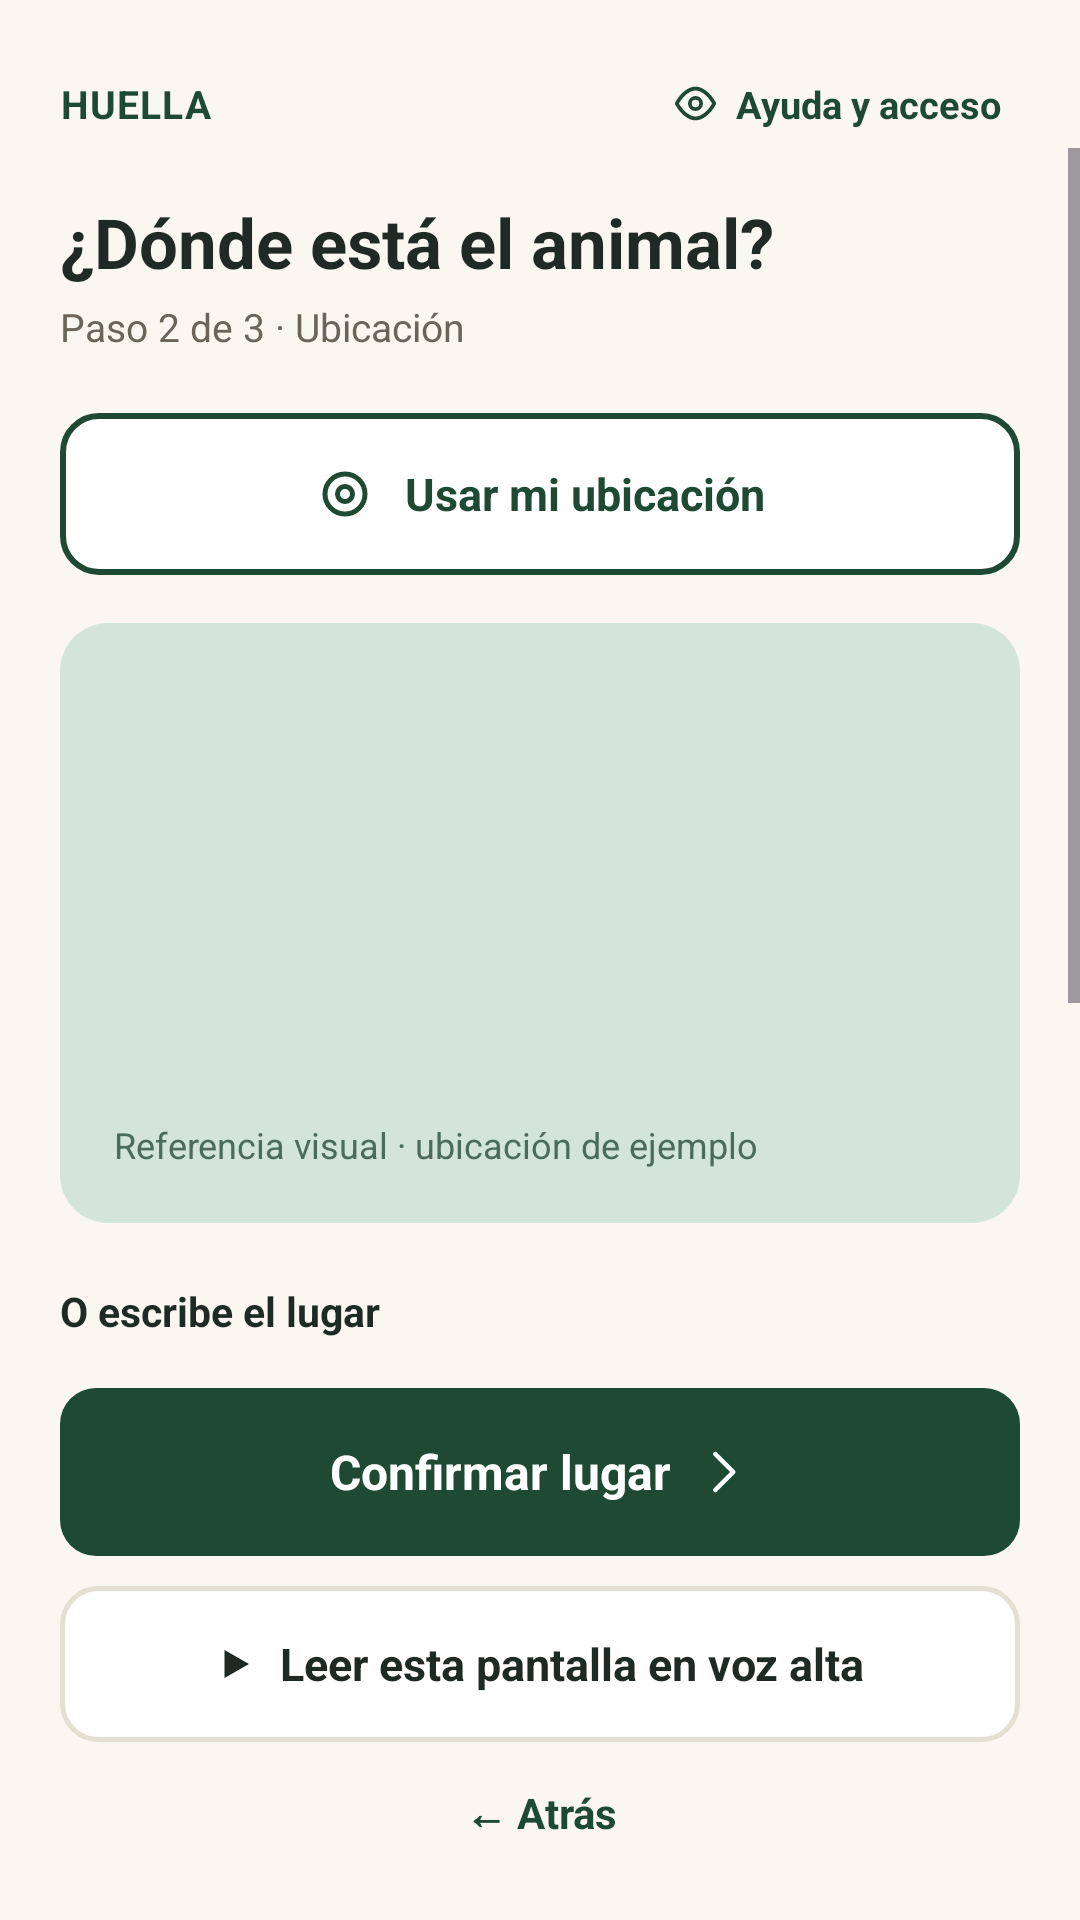

Screen size 1080w x 1920h. Icon name, then its box in pixels as [x1, y1, x2, y2]:
eye: [675, 86, 716, 121]
play: [224, 1650, 249, 1678]
target: [322, 471, 368, 517]
